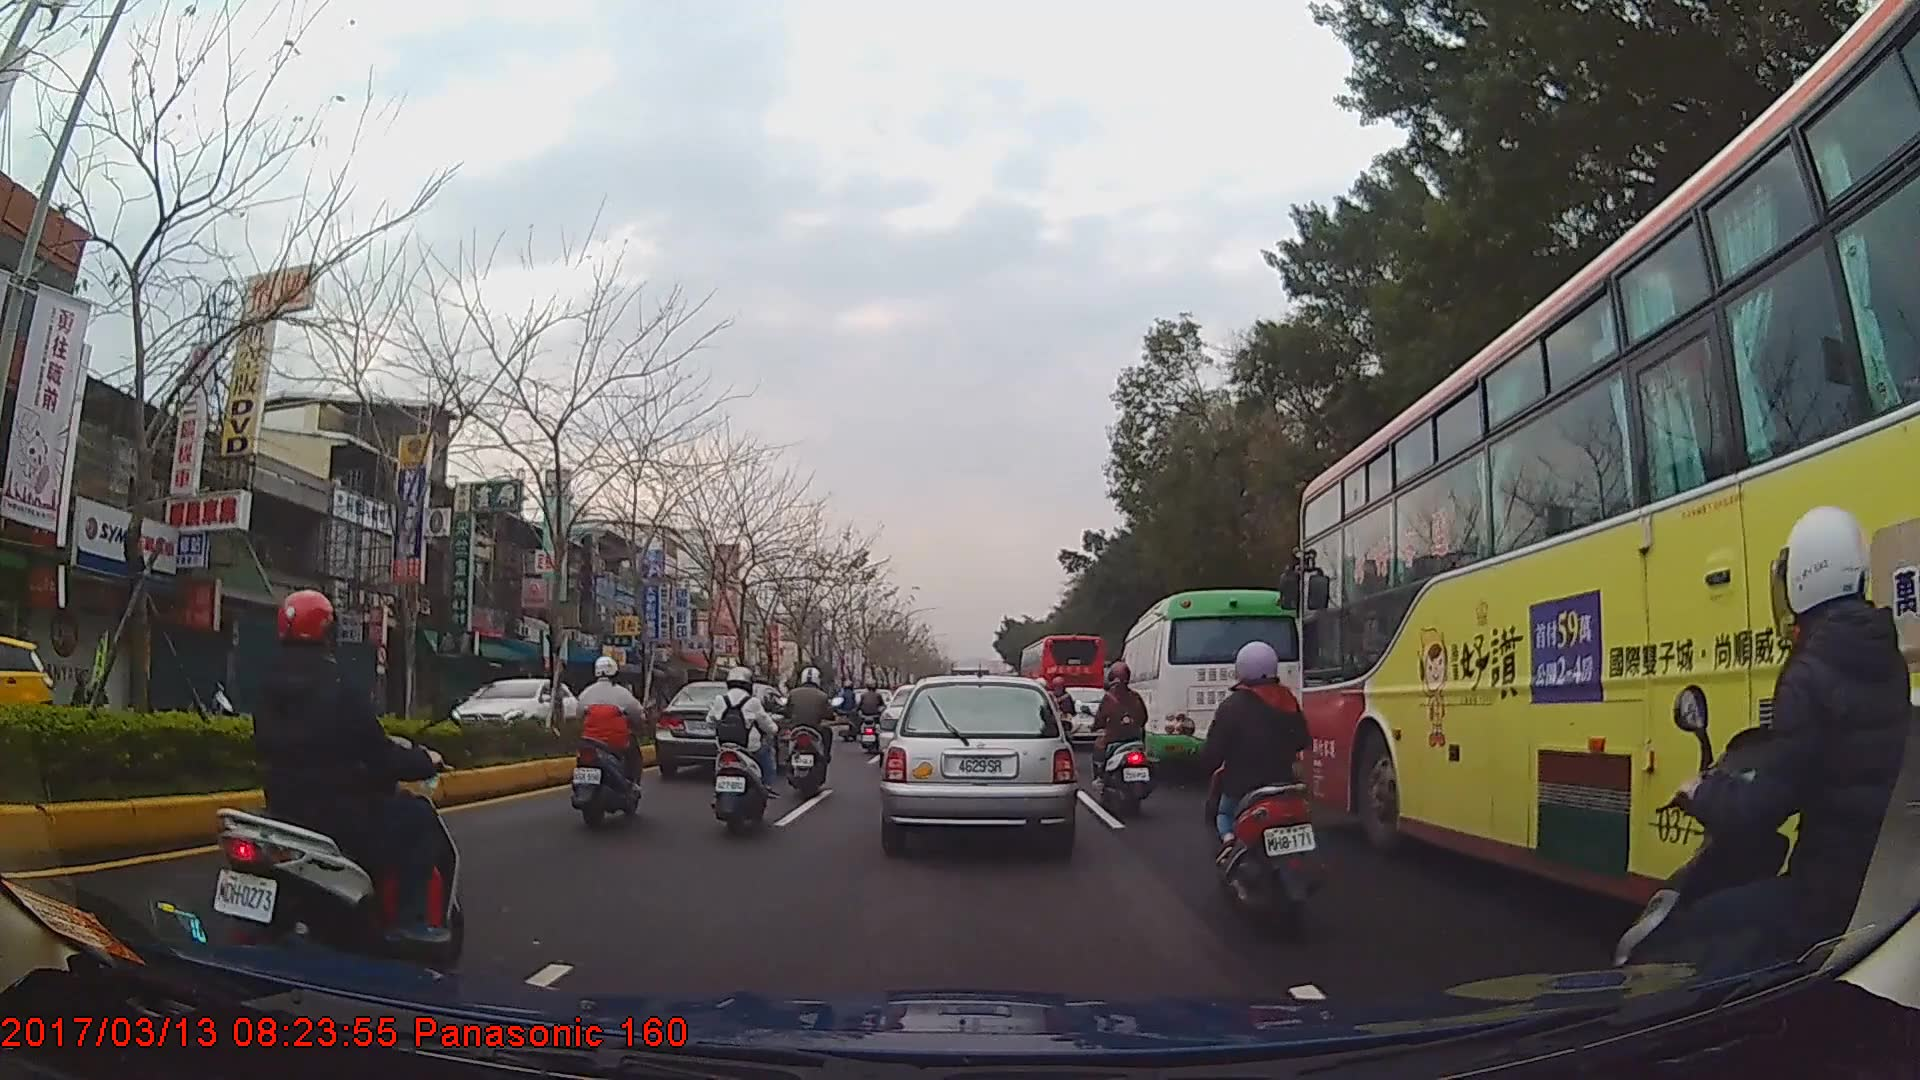rider: (1608, 507, 1920, 1051), (211, 589, 461, 973), (1193, 640, 1323, 937), (574, 654, 648, 828), (708, 664, 779, 834), (1093, 664, 1155, 808), (781, 666, 842, 800), (857, 681, 888, 755), (840, 681, 862, 724)
vehicle: (1297, 0, 1920, 1009), (1115, 586, 1304, 776), (881, 672, 1074, 851), (653, 679, 797, 783), (446, 670, 592, 758), (1017, 631, 1106, 743), (0, 620, 60, 767)
